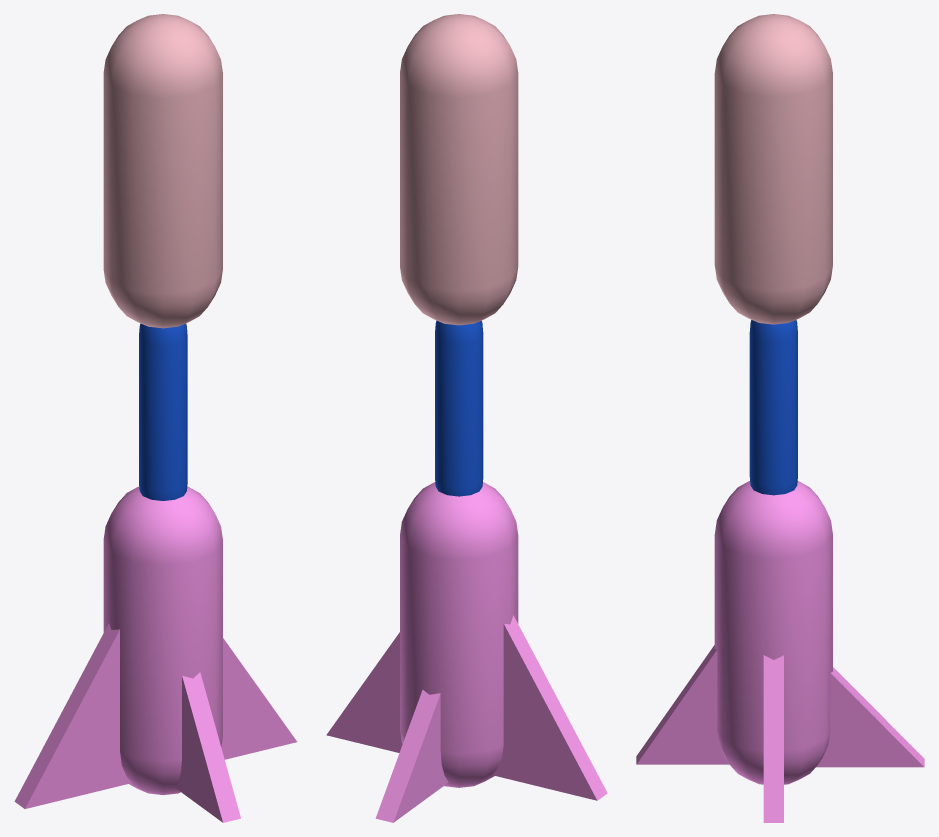
The model's file is missle.FBX.
The picture shows the model from 3 angles, left to right: view 1: azimuth 30°, elevation 25°; view 2: azimuth 150°, elevation 25°; view 3: azimuth 270°, elevation 25°; orthographic projection.
Visible parts, largest first — view 1: Capsule002, Capsule003, Line006, Capsule001, Line004, Line005; view 2: Capsule002, Capsule003, Line006, Capsule001, Line002, Line005; view 3: Capsule002, Capsule003, Capsule001, Line004, Line002, Line005.
Boxes of the visible parts, bbox=[...] form: Capsule002: bbox=[103, 14, 222, 328]; Capsule003: bbox=[103, 486, 222, 795]; Line006: bbox=[14, 623, 131, 808]; Capsule001: bbox=[139, 323, 187, 500]; Line004: bbox=[175, 672, 240, 822]; Line005: bbox=[221, 638, 296, 759]; Capsule002: bbox=[400, 14, 518, 325]; Capsule003: bbox=[400, 482, 518, 787]; Line006: bbox=[492, 615, 607, 800]; Capsule001: bbox=[435, 320, 483, 496]; Line002: bbox=[375, 690, 448, 822]; Line005: bbox=[326, 632, 402, 752]; Capsule002: bbox=[714, 14, 832, 324]; Capsule003: bbox=[714, 481, 832, 784]; Capsule001: bbox=[749, 319, 797, 495]; Line004: bbox=[636, 645, 729, 764]; Line002: bbox=[816, 667, 924, 767]; Line005: bbox=[763, 655, 783, 822].
Size of the model in its own units: 68.37 by 184 by 63.17.
